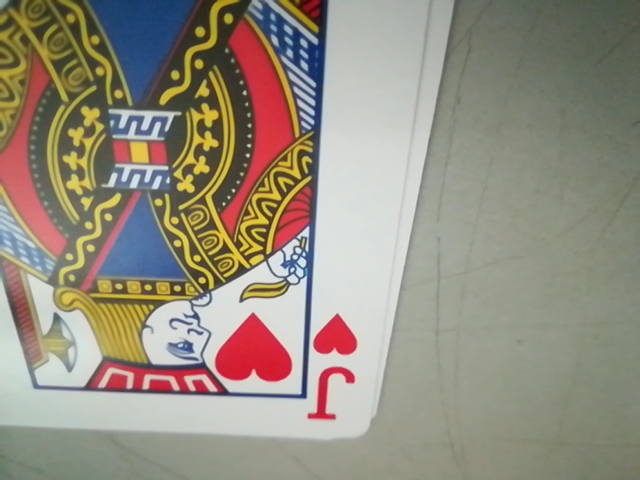hx j: (303, 313, 364, 424)
